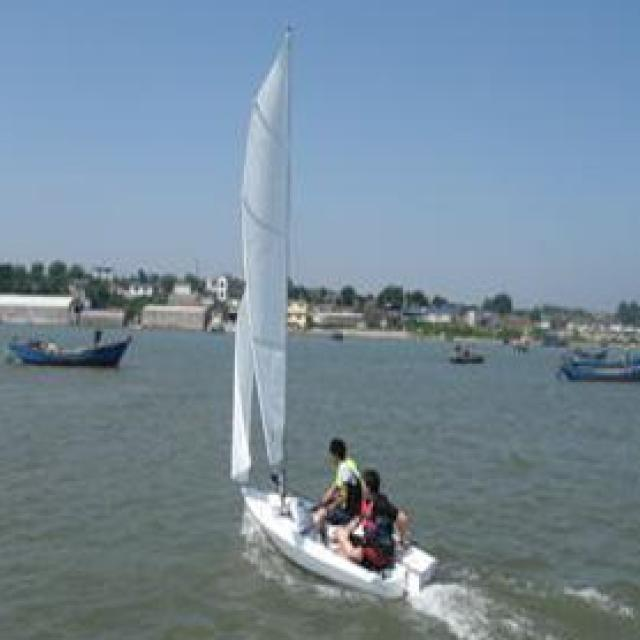fishing boat: (2, 310, 146, 367), (550, 338, 640, 384)
sailboat: (174, 15, 456, 623)
